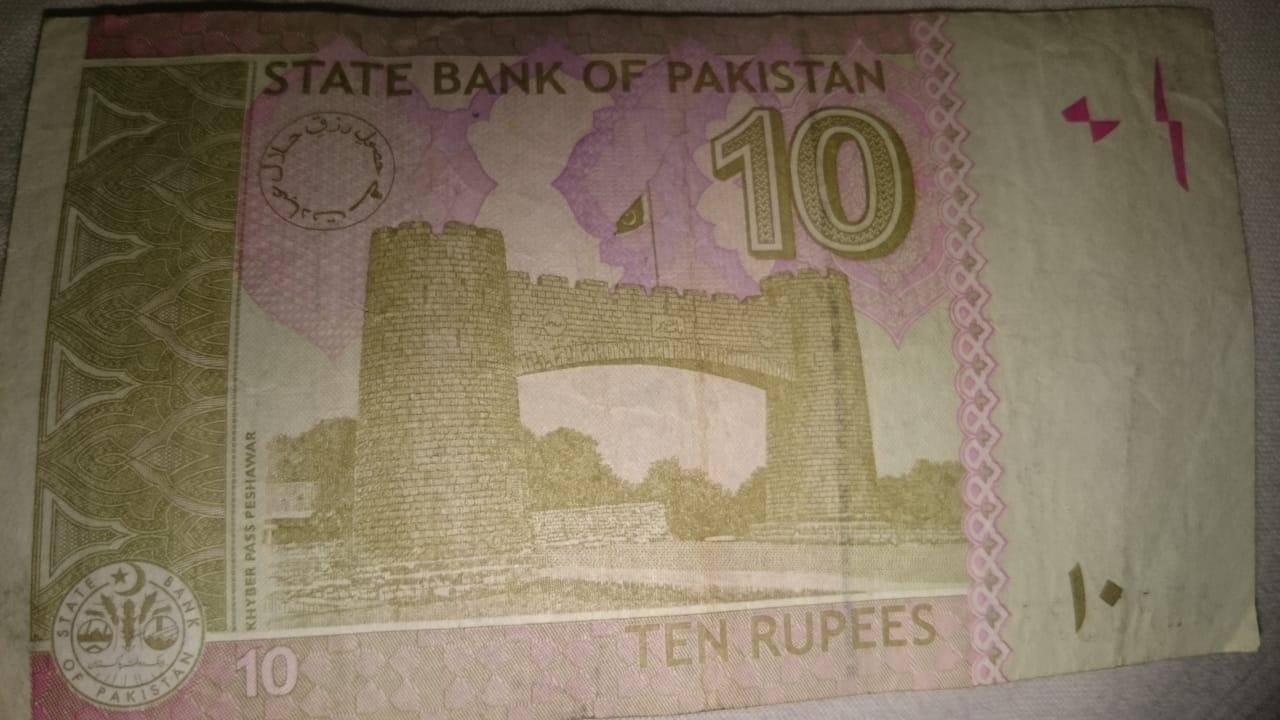10 rupee: (21, 11, 1254, 720)
